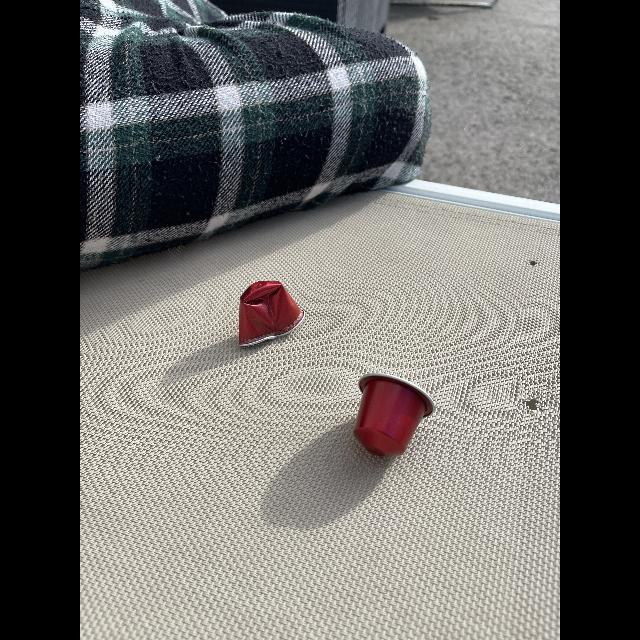damaged_capsule: (233, 278, 309, 350)
intact_capsule: (348, 368, 442, 462)
